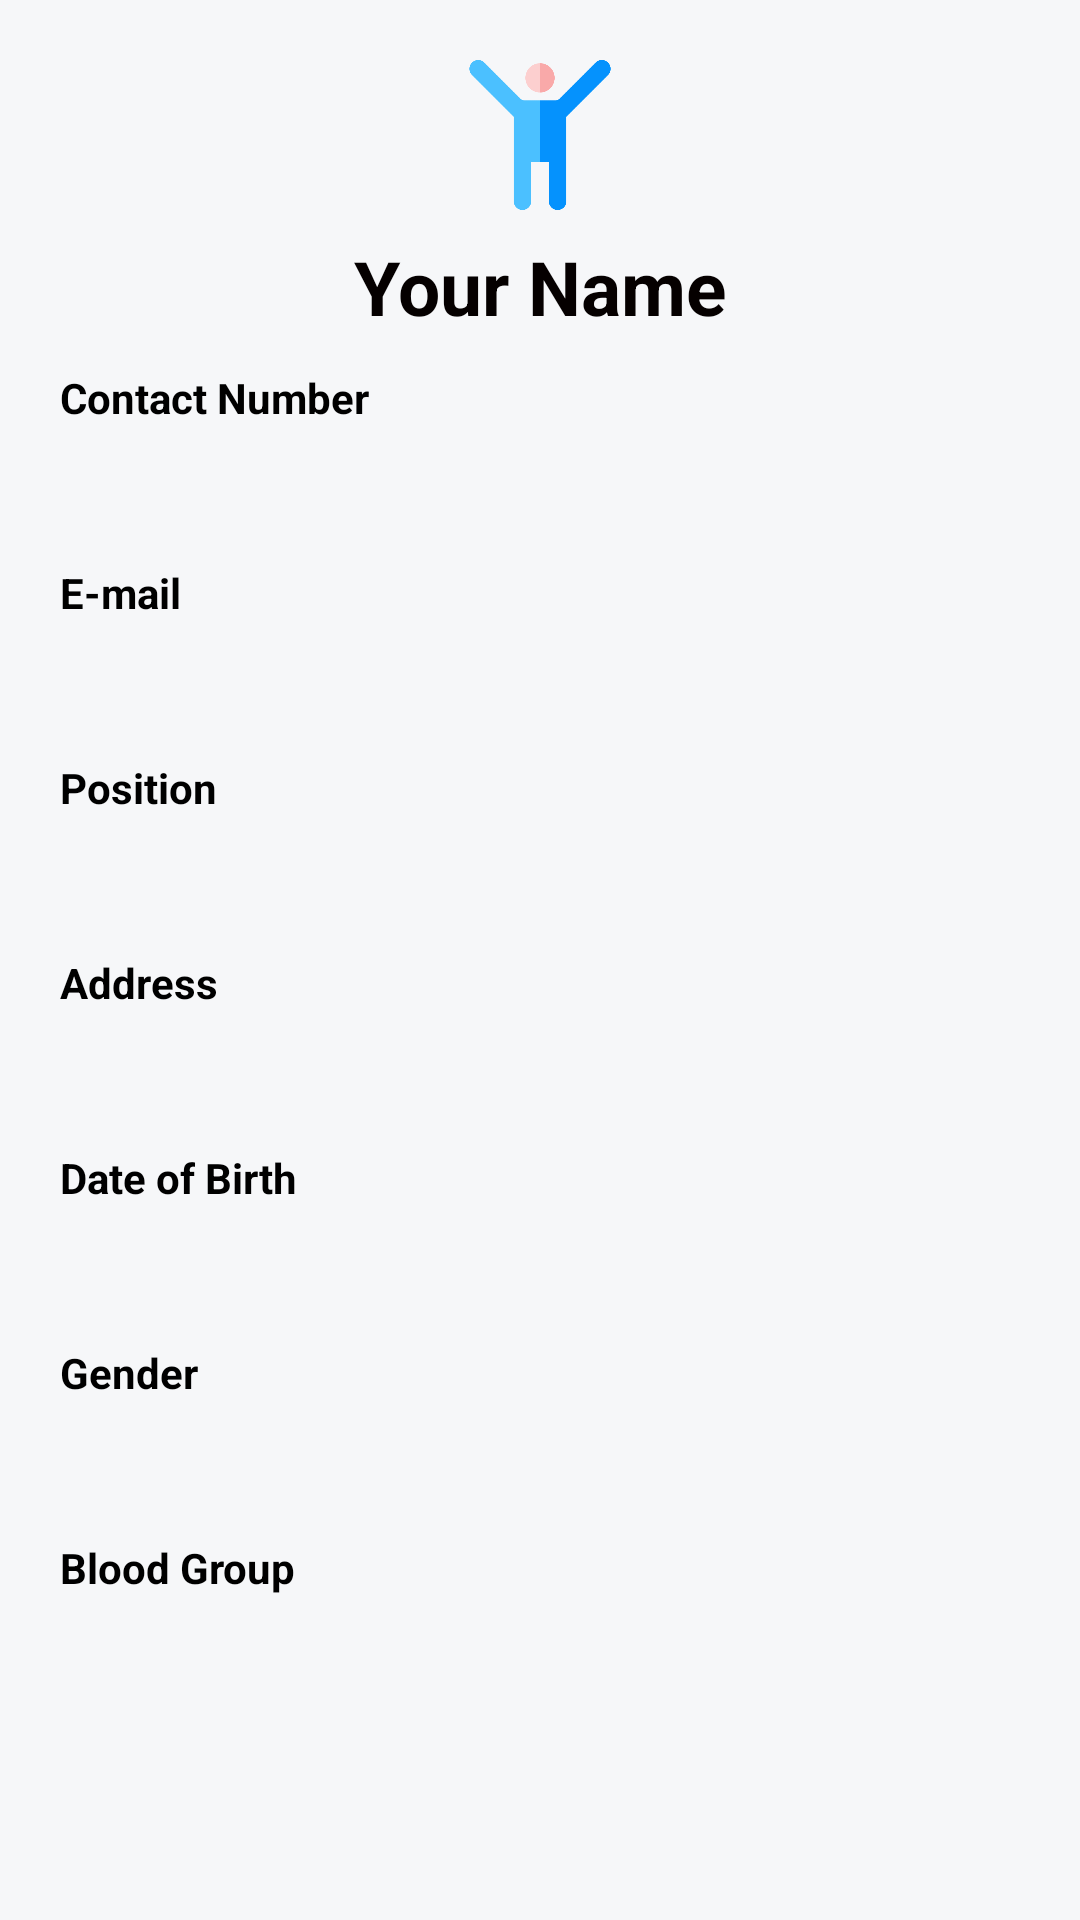

Named icons in this screenshot (1080px×1920px) and their centers, (x=x, y=y):
volunteer: (x=540, y=135)
